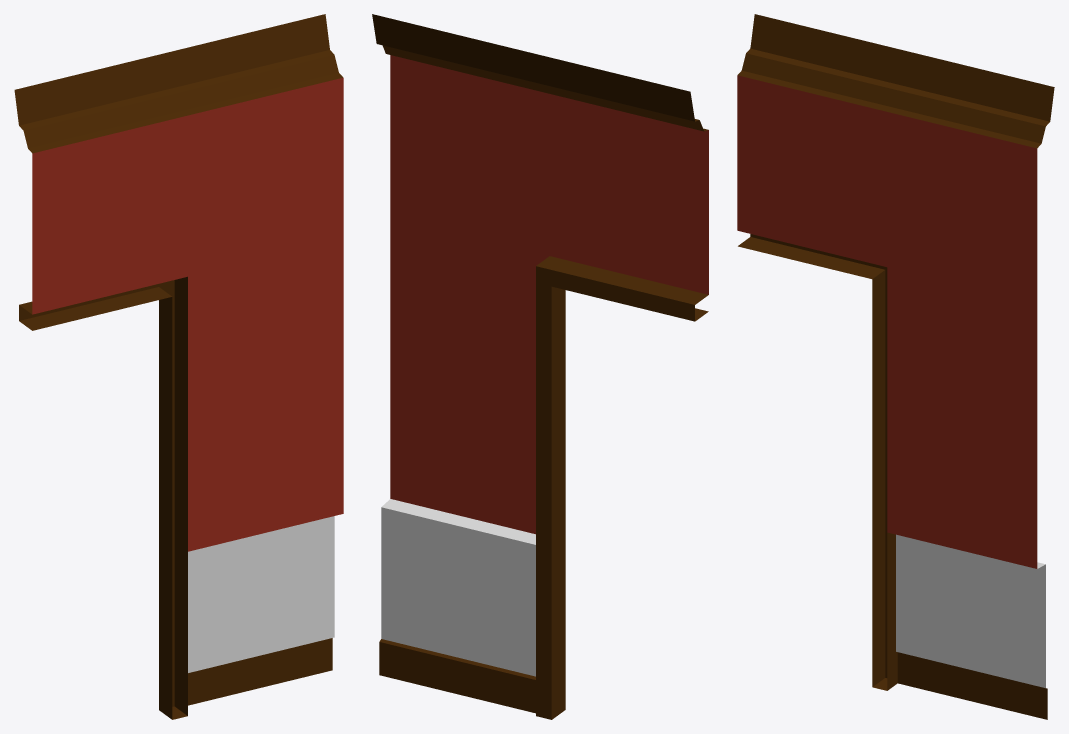
File: Bar_Wall_Door_Left.fbx
3 views of the same model, side by side, from view 1: azimuth 30°, elevation 25°; view 2: azimuth 150°, elevation 25°; view 3: azimuth 330°, elevation 25° (orthographic). The views are drawn at different scales.
Parts seen in each view (by area): view 1: Cube; view 2: Cube; view 3: Cube.
Boxes of the visible parts, x1,y1,x2,y2 form: Cube: [14, 14, 343, 719]; Cube: [372, 14, 708, 719]; Cube: [737, 14, 1054, 719].
Bounding box in the file's own units: 200 × 400 × 20.
